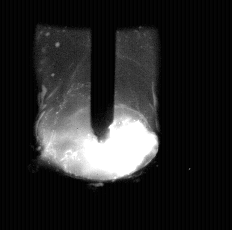arame: (92, 0, 115, 142)
poca: (42, 0, 160, 230)
